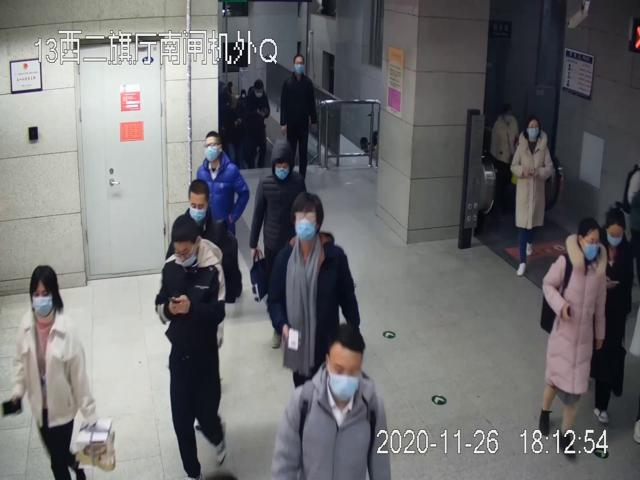person: (155, 214, 227, 480), (13, 265, 101, 480), (270, 324, 391, 480), (267, 192, 360, 387), (542, 216, 610, 462), (251, 138, 307, 352), (198, 132, 250, 302), (510, 114, 554, 276), (281, 52, 319, 182)
